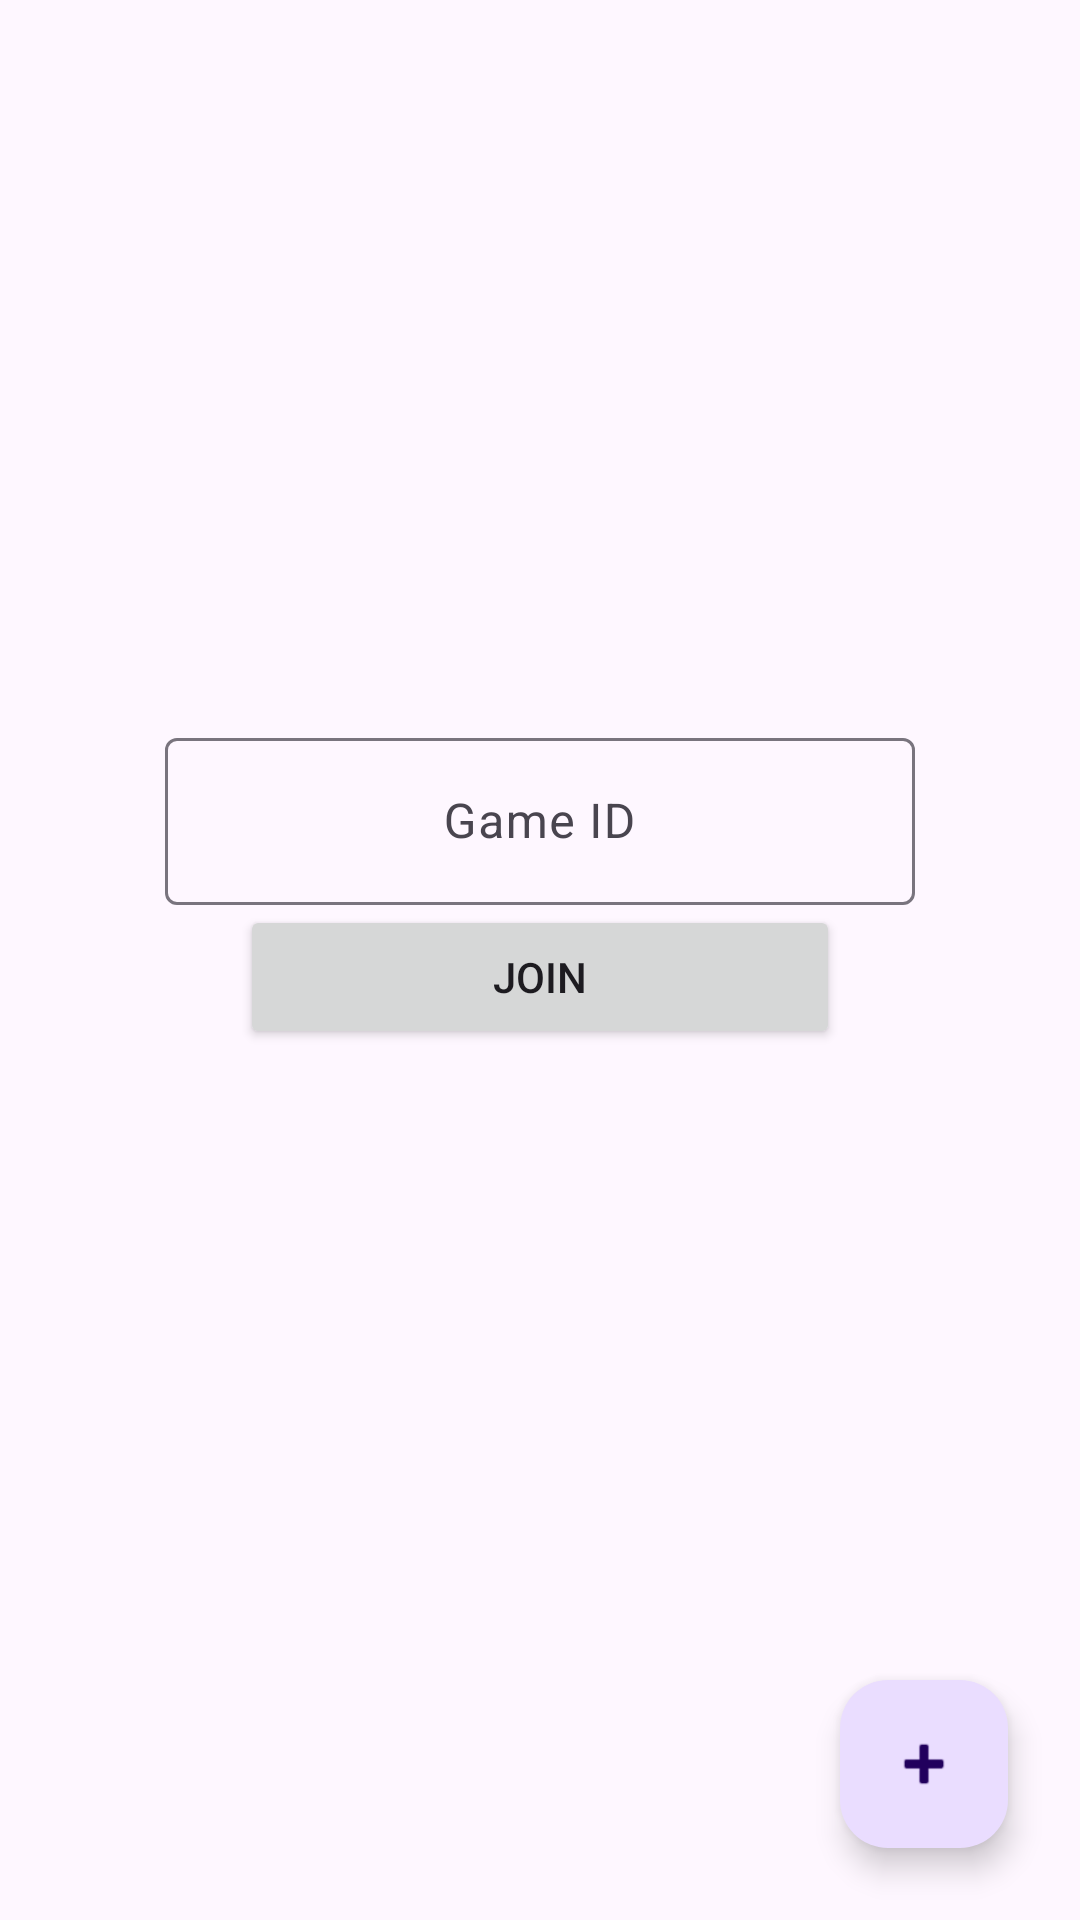

Named icons in this screenshot (1080px×1920px) and their bounding boxes, (x1, y1, x2, y2):
Create Game: (840, 1680, 1008, 1848)
